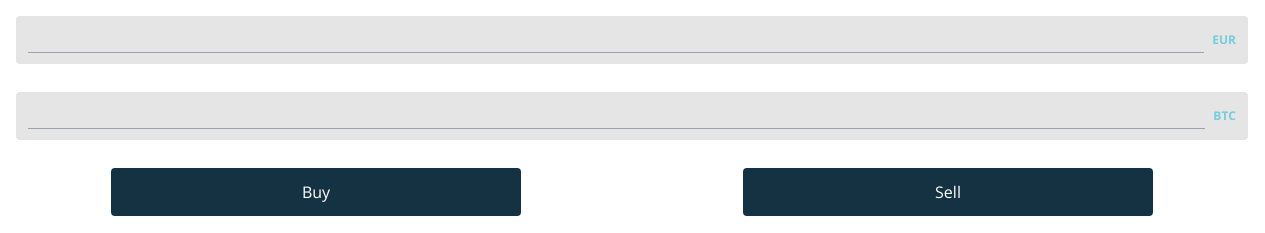
Scenario: TradeForm › buy validation › should show an error when EUR input is empty and user submits the form
Click the button "Buy" at (316, 192), box [111,168,521,216]
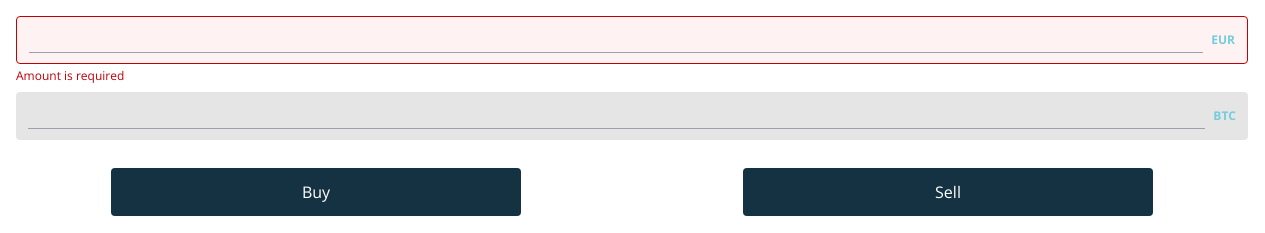
Expected: the text "Amount is required" is shown, [16,67,124,84]
